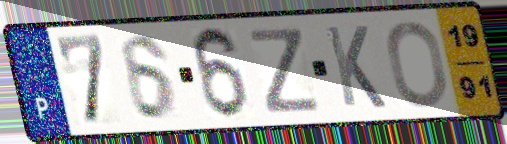6: (191, 23, 256, 124), (117, 32, 181, 121)
7: (52, 32, 109, 129)
K: (322, 23, 390, 111)
O: (384, 19, 451, 110)
Z: (245, 26, 323, 117)
